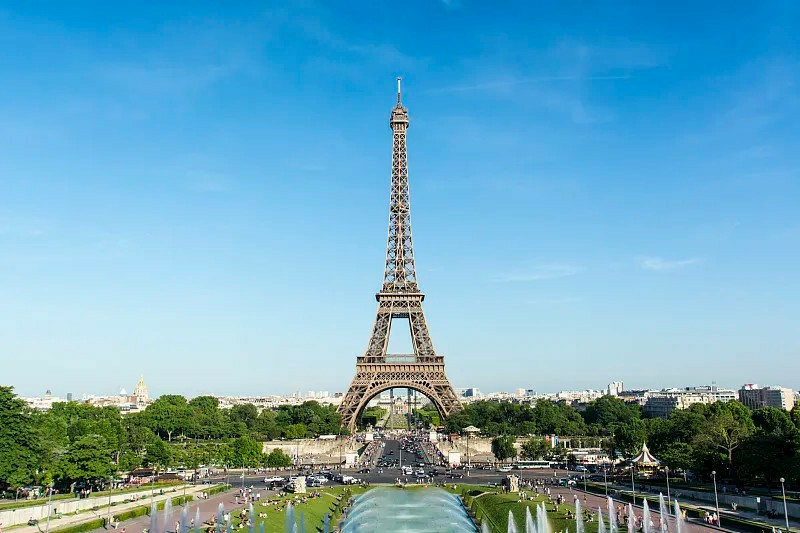Eiffel: (336, 75, 465, 432)
